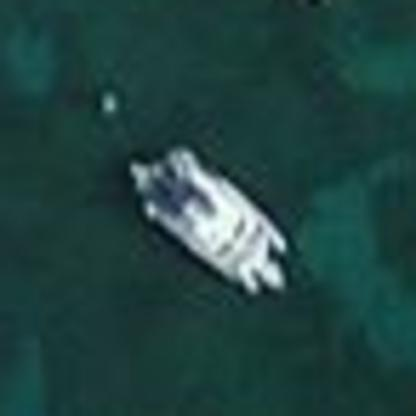ship: (104, 128, 300, 300)
